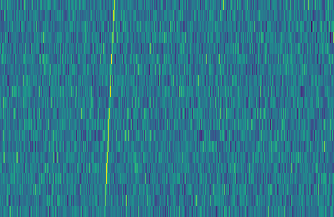signal: (99, 0, 117, 217)
